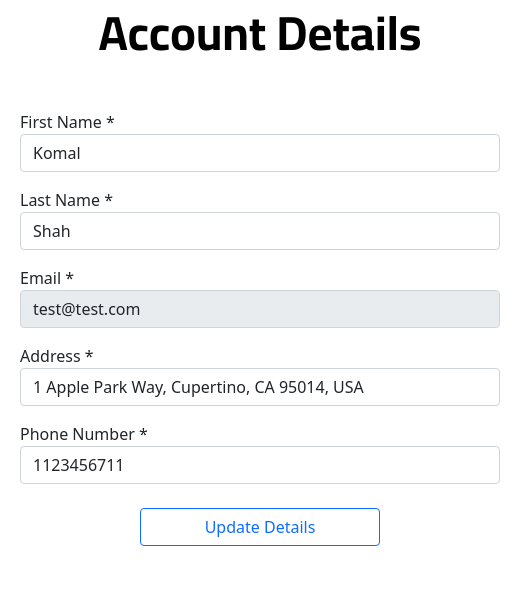
Test: Check Error.
The image size is (521, 615).
Step 1. Type "1" into the field labelled "First Name *" → [260, 153], box [20,134,500,172]
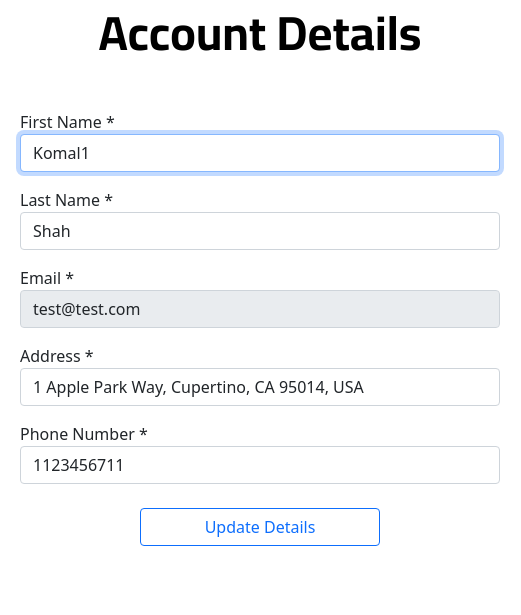
Now the field labelled "First Name *" holds "Komal1", box [20,134,500,172]
Step 2. Click the button "Update Details" → [260, 527], box [140,508,380,546]
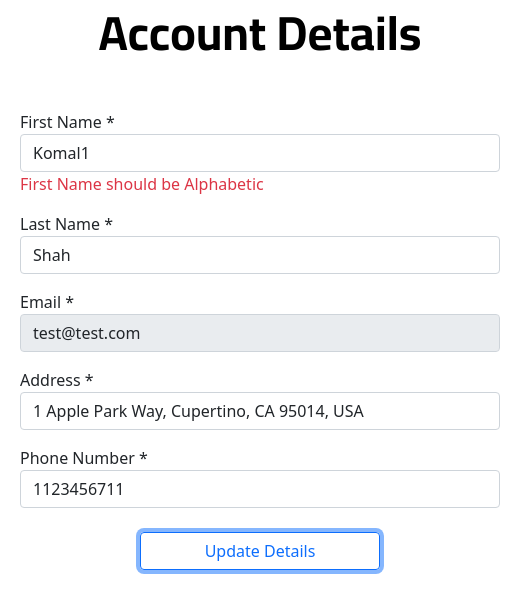
Now the text "First Name should be Alphabetic" is shown, box [20,173,264,195]
Step 3. Type "1" into the field labelled "Last Name *" → [260, 255], box [20,236,500,274]
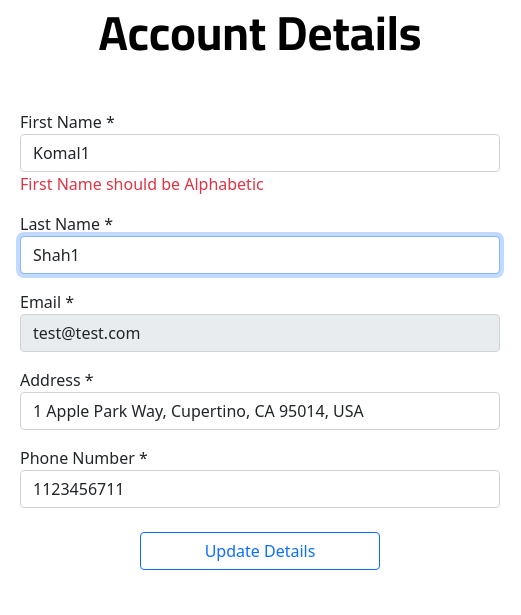
Now the field labelled "Last Name *" holds "Shah1", box [20,236,500,274]
Step 4. Click the button "Update Details" → [260, 551], box [140,532,380,570]
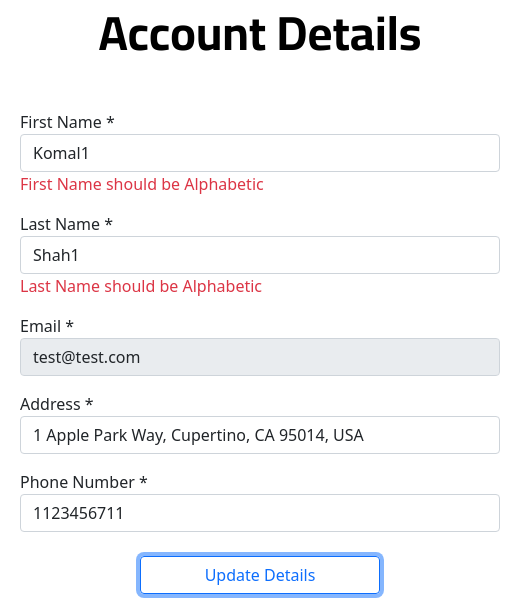
Now the text "Last Name should be Alphabetic" is shown, box [20,275,262,297]
